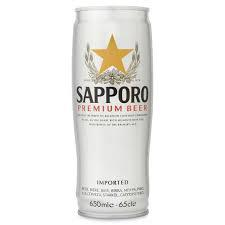beer: (70, 6, 157, 218)
